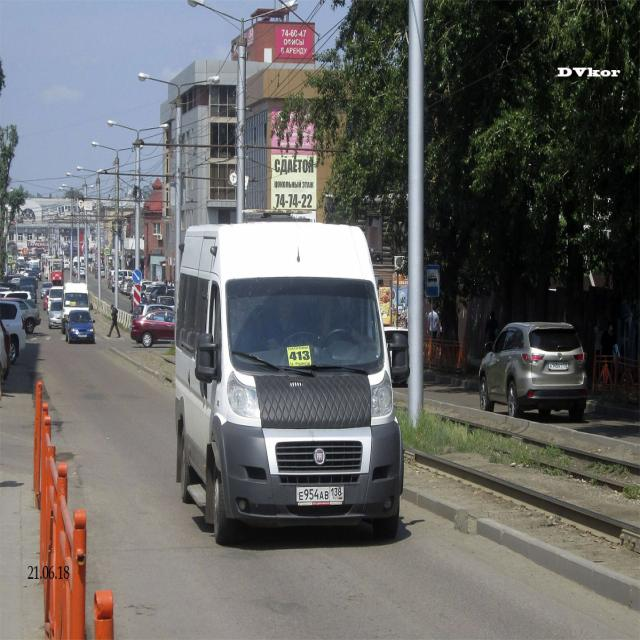number-of-bus: (289, 351, 312, 363)
